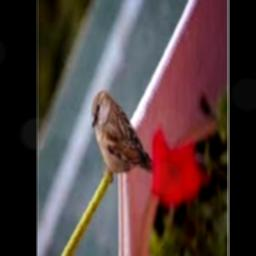Sparrow: (91, 89, 154, 184)
